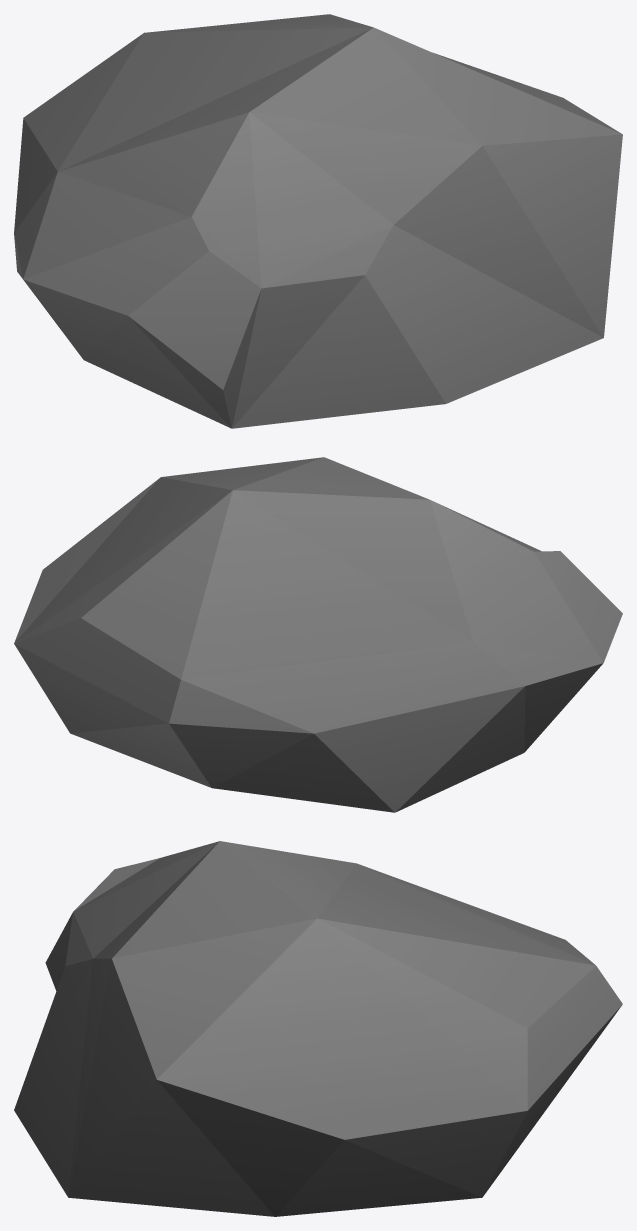
The model's file is Env_Pebbles_03.obj.
The picture shows the model from 3 angles, top to bottom: view 1: azimuth 30°, elevation 25°; view 2: azimuth 150°, elevation 25°; view 3: azimuth 270°, elevation 25°; orthographic projection. The views are drawn at different scales.
Visible parts, largest first — view 1: Env_Pebbles_03; view 2: Env_Pebbles_03; view 3: Env_Pebbles_03.
Boxes of the visible parts, x1=… form: Env_Pebbles_03: x1=14, y1=14, x2=622, y2=428; Env_Pebbles_03: x1=14, y1=457, x2=622, y2=812; Env_Pebbles_03: x1=14, y1=841, x2=622, y2=1216.
Bounding box in the file's own units: 0.1567 × 0.0609 × 0.145.
1 material, 1 textured.
